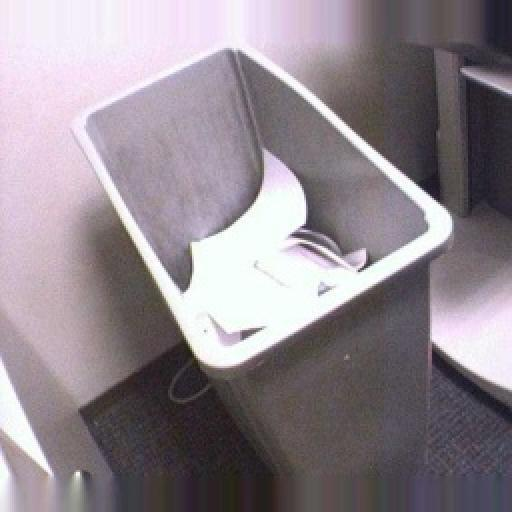trash-can: (65, 24, 466, 512)
